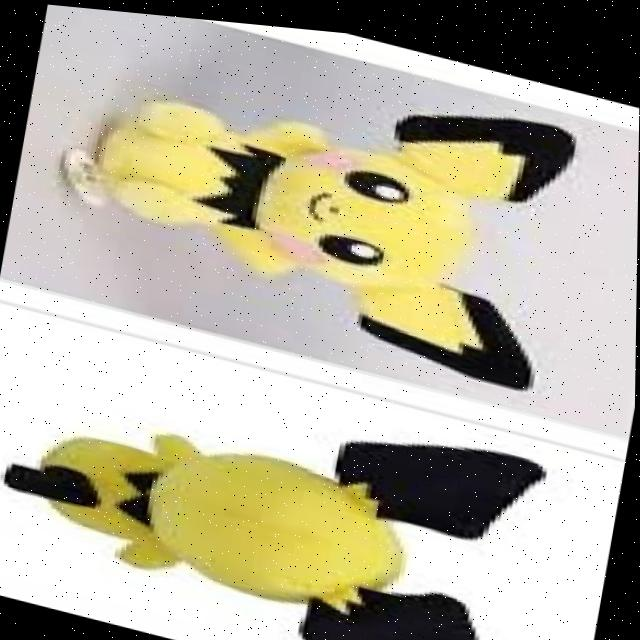pichu: (0, 0, 620, 413), (0, 322, 598, 640)
